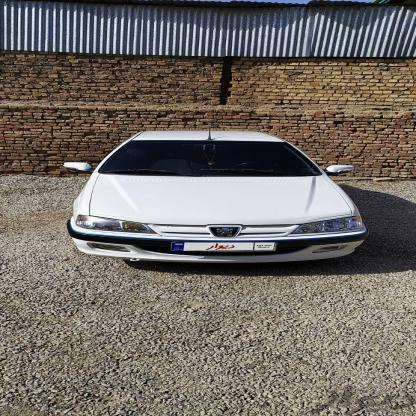Car: (52, 125, 374, 272)
